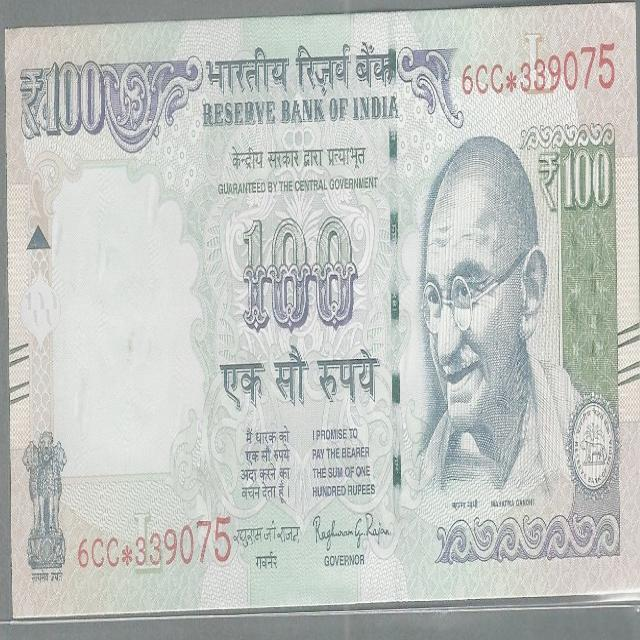100rs: (6, 37, 638, 604)
